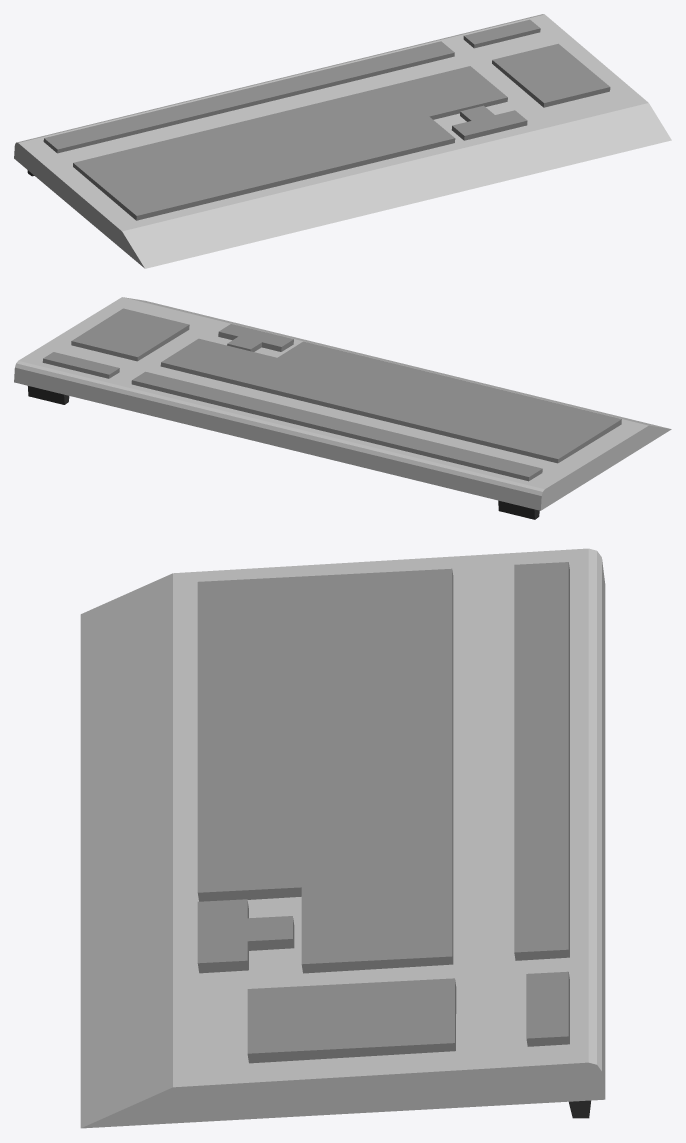
Rendered from keyboard_2.glb.
The picture shows the model from 3 angles, top to bottom: view 1: azimuth 30°, elevation 25°; view 2: azimuth 150°, elevation 25°; view 3: azimuth 270°, elevation 25°; orthographic projection. The views are drawn at different scales.
Parts seen in each view (by area): view 1: PC Keyboard 1; view 2: PC Keyboard 1; view 3: PC Keyboard 1.
Boxes of the visible parts, x1=… form: PC Keyboard 1: x1=14, y1=14, x2=671, y2=268; PC Keyboard 1: x1=14, y1=297, x2=671, y2=519; PC Keyboard 1: x1=80, y1=548, x2=605, y2=1128.
Bounding box in the file's own units: 0.4622 × 0.0305 × 0.1994.
Materials: 1 (1 with a texture image).
